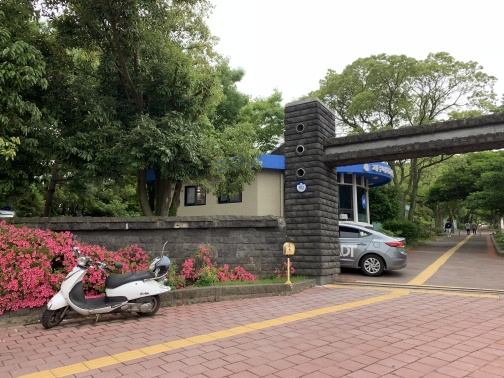Security Office: (153, 150, 405, 232), (333, 160, 402, 227)
